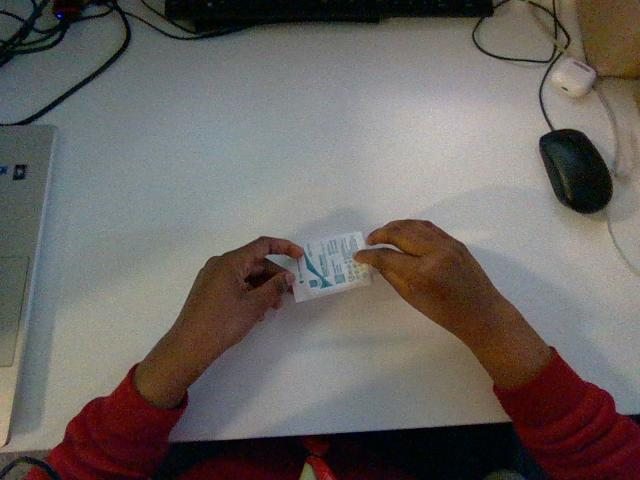gauze: (293, 232, 371, 301)
